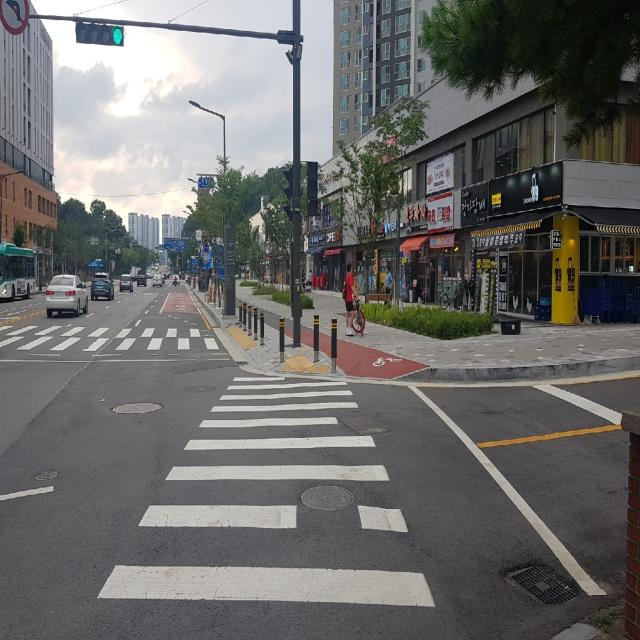횡단보도: (96, 374, 438, 612), (0, 321, 232, 365)
